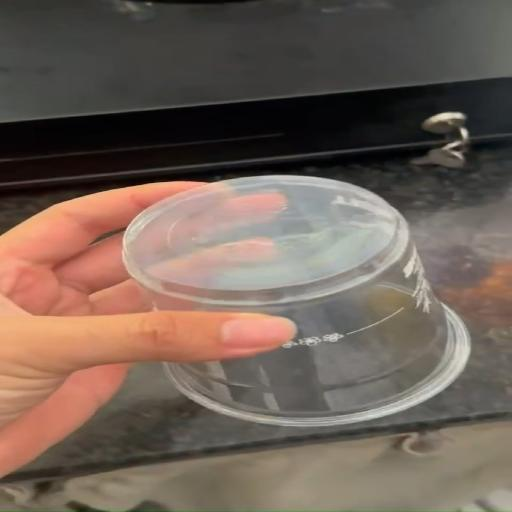ly_nhua: (123, 175, 469, 426)
